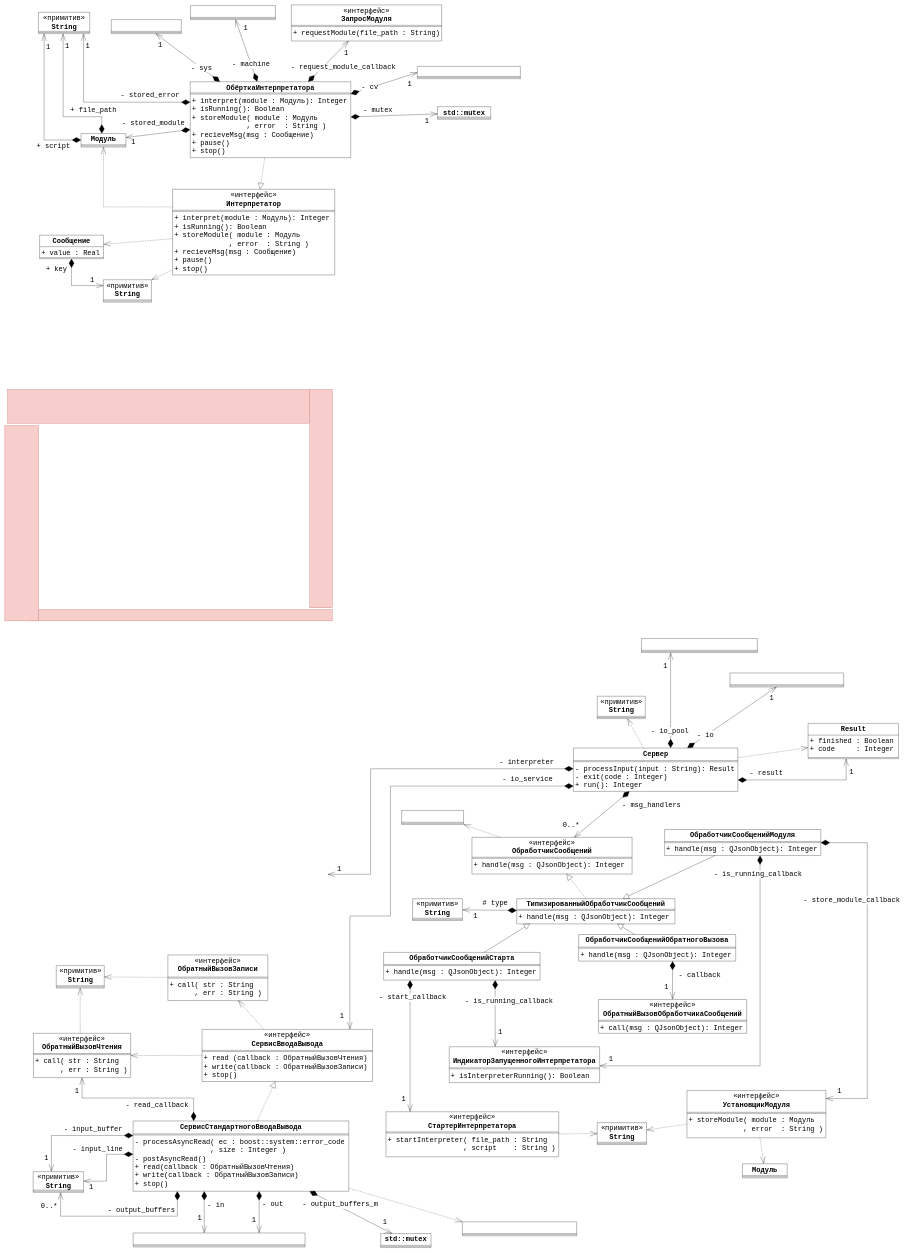
This 905x1252 diagram has some shape labels left out. Each missing label, with the centre of its shape:
boost::asio::io_service: the point at 787,680
boost::asio::posix::stream_descriptor: the point at 219,1240
boost::asio::thread_pool: the point at 699,645
boost::system::error_code: the point at 519,1229
QJsonObject: the point at 432,817
ScriptC_Interpreter: the point at 232,12
ScriptC_NS_Sys: the point at 146,26
std::condition_variable: the point at 468,72
